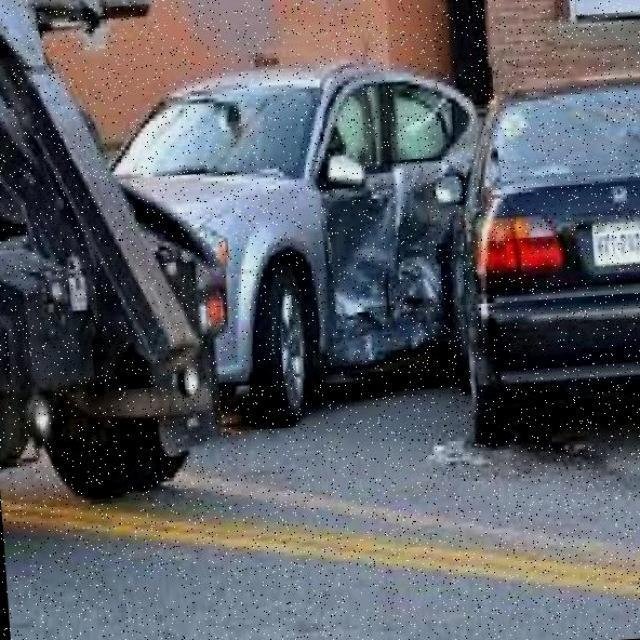accident: (70, 34, 640, 466)
